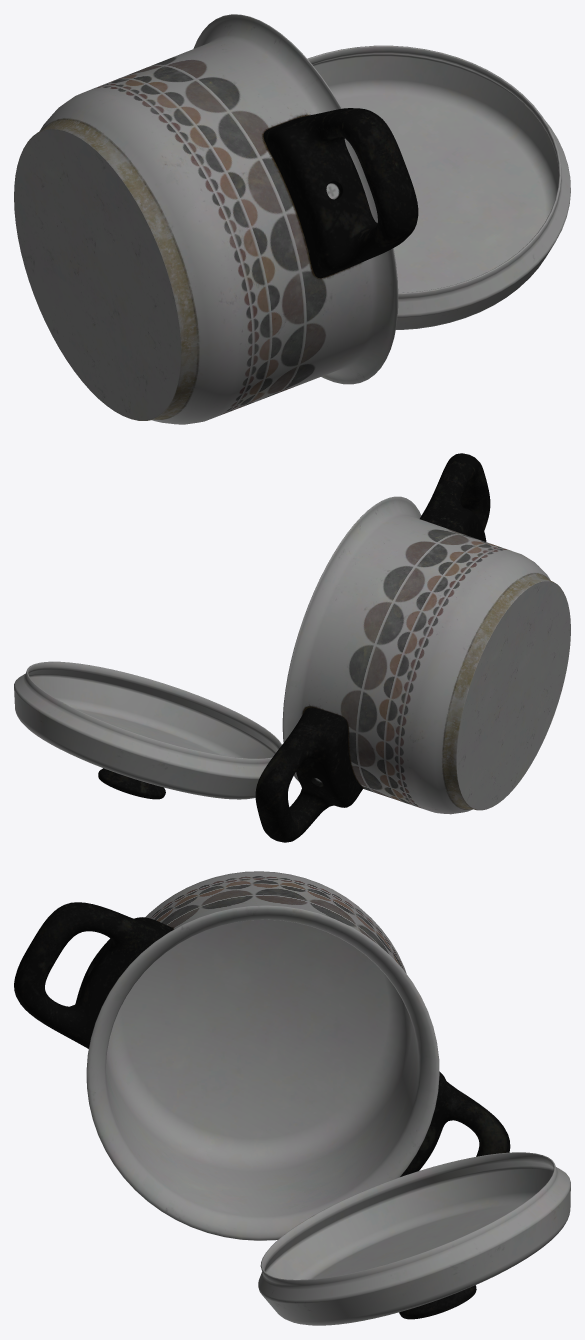
3 views of the same model, one above another, from view 1: azimuth 30°, elevation 25°; view 2: azimuth 150°, elevation 25°; view 3: azimuth 270°, elevation 25° (orthographic). The views are drawn at different scales.
Visible parts, largest first — view 1: Pot, Lid; view 2: Pot, Lid; view 3: Pot, Lid.
Part boxes in pixels (x1,y1,x2,y2): Pot: (14, 14, 418, 424); Lid: (307, 45, 570, 329); Pot: (255, 453, 570, 842); Lid: (14, 661, 281, 799); Pot: (14, 871, 510, 1240); Lid: (258, 1152, 570, 1325).
Bounding box in the file's own units: 0.2929 × 0.179 × 0.284.
Materials: 1 (1 with a texture image).
